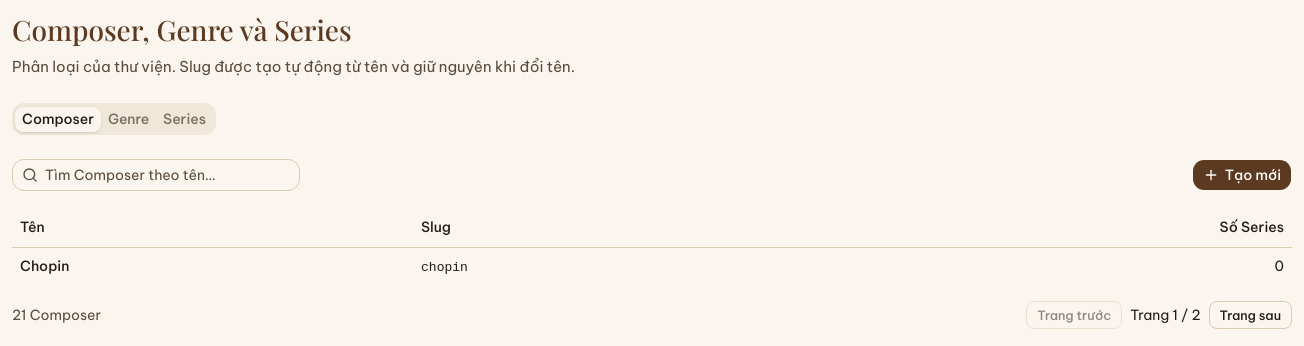
Scenario: Trang /taxonomy — tab Composer › phân trang: bấm "Trang sau" gọi page=2
Expected: the text "Trang 1 / 2" is shown, [1130,305,1200,325]
Step 1. Click the button "Trang sau" → (1250,315), box [1208,301,1292,329]
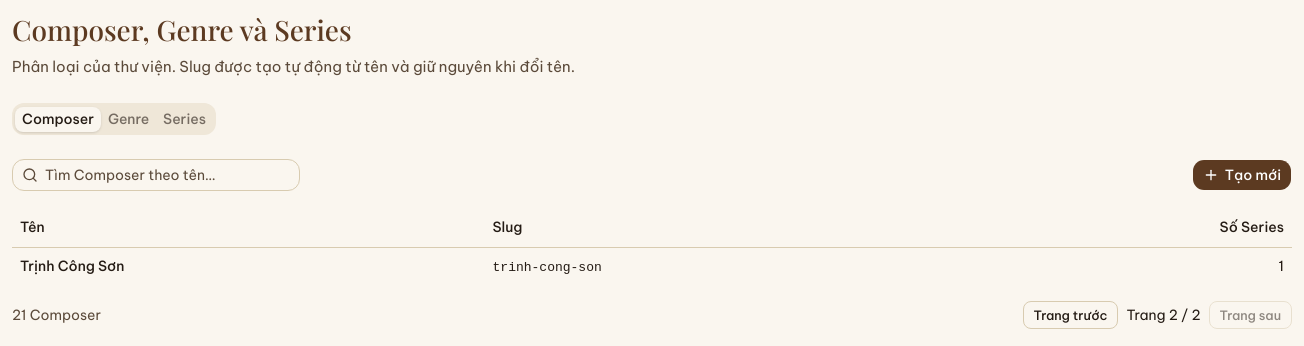
Expected: the text "Trang 2 / 2" is shown, [1126,305,1200,325]
Expected: the text "Trịnh Công Sơn" is shown, [12,247,484,285]
